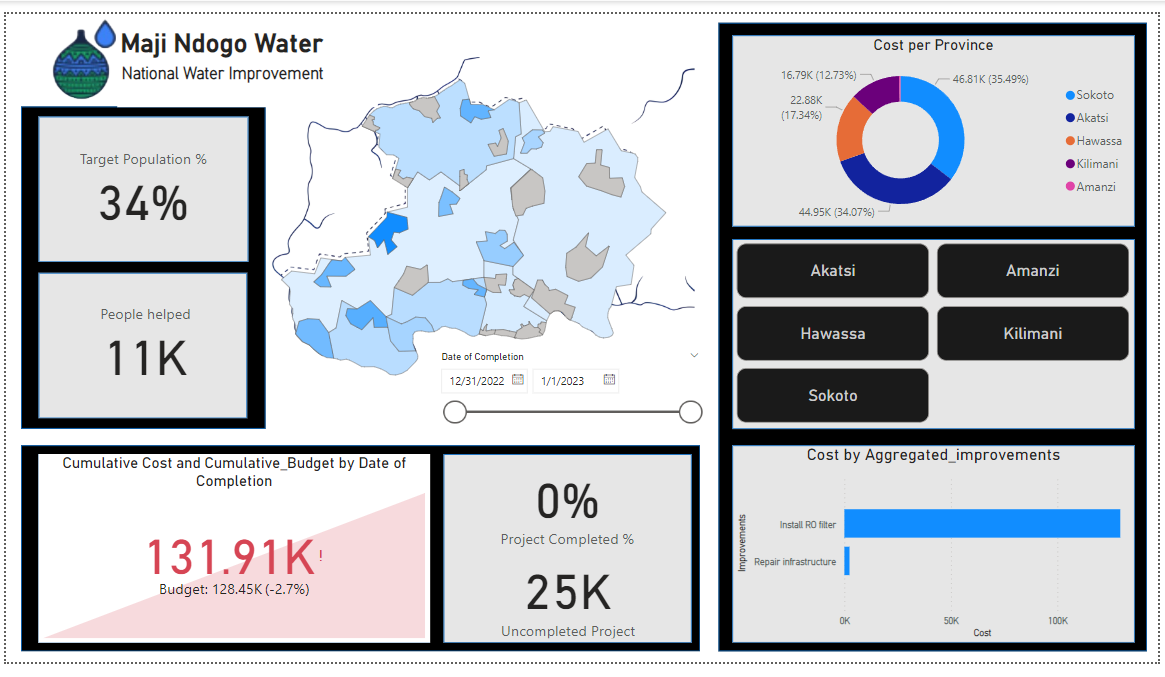

Layout of this report page (visuals, bound fields, positions):
{"tool":"powerbi","page":{"name":"Page 1","canvas":[1280,720],"ordinal":0},"visuals":[{"type":"image","box":[288.2,42.5,483,385.6],"z":0},{"type":"shape","box":[791.8,9.6,476.2,698.5],"z":1000},{"type":"shape","box":[806.9,23.3,447.3,212.7],"z":2000},{"type":"shape","box":[806.9,478.9,447.3,219.6],"z":3000},{"type":"shape","box":[806.9,249.7,447.3,211.3],"z":4000},{"type":"shape","box":[16.5,478.9,754.7,229.2],"z":5000},{"type":"shape","box":[485.8,488.5,275.8,209.9],"z":6000},{"type":"shape","box":[35.7,488.5,435,209.9],"z":7000},{"type":"shape","box":[16.5,102.9,271.7,358.1],"z":8000},{"type":"shape","box":[35.7,113.9,233.3,161.9],"z":9000},{"type":"shape","box":[35.7,288.2,231.9,161.9],"z":10000},{"type":"image","box":[13.7,0,134.5,104.3],"z":11000},{"type":"textbox","box":[122.1,9.6,290.9,53.5],"z":12000},{"type":"textbox","box":[123.5,49.4,289.5,53.5],"z":13000},{"type":"shapeMap","fields":{"Category":["project_progress.town"],"Value":["infrastructure_cost.Pct_Project_Complete"]},"box":[267.6,49.4,503.6,374.6],"z":14000},{"type":"kpi","title":"Cumulative Cost and Cumulative_Budget by Date of Completion","fields":{"Indicator":["infrastructure_cost.cumulative_cost"],"Goal":["infrastructure_cost.cumulative_budget"],"TrendLine":["project_progress.date_of_completion"]},"box":[35.7,488.5,435,209.9],"z":15000},{"type":"card","fields":{"Values":["infrastructure_cost.Pct_Project_Complete"]},"box":[485.8,488.5,275.8,111.1],"z":16000},{"type":"cardVisual","fields":{"Data":["project_progress.Pct_population_now_basic_access"]},"box":[35.7,113.9,233.3,161.9],"z":17000},{"type":"cardVisual","fields":{"Data":["project_progress.population_improved"]},"box":[31.6,282.7,247,167.4],"z":18000},{"type":"advancedSlicerVisual","fields":{"Values":["location.province_name"]},"box":[806.9,249.7,447.3,211.3],"z":19000},{"type":"clusteredBarChart","fields":{"Category":["project_progress.Aggregated_improvements"],"Y":["Sum(project_progress.cost)"]},"box":[806.9,478.9,447.3,219.6],"z":20000},{"type":"donutChart","title":"Cost per Province","fields":{"Y":["Sum(project_progress.cost)"],"Category":["location.province_name"]},"box":[806.9,23.3,447.3,214.1],"z":21000},{"type":"card","fields":{"Values":["infrastructure_cost.number_uncompleted_projects"]},"box":[485.8,594.2,277.2,104.3],"z":22000},{"type":"slicer","fields":{"Values":["project_progress.date_of_completion"]},"box":[470.7,369.1,311.5,107],"z":22001}]}

Visuals, with their boxes in screenshot pixels (x1, y1, x2, y2):
image: <region>265, 50, 698, 396</region>
shape: <region>717, 21, 1144, 648</region>
shape: <region>730, 33, 1132, 224</region>
shape: <region>730, 442, 1132, 639</region>
shape: <region>730, 236, 1132, 426</region>
shape: <region>21, 442, 698, 648</region>
shape: <region>442, 451, 690, 639</region>
shape: <region>38, 451, 429, 639</region>
shape: <region>21, 104, 265, 426</region>
shape: <region>38, 114, 248, 260</region>
shape: <region>38, 271, 246, 416</region>
image: <region>18, 12, 139, 106</region>
textbox: <region>116, 21, 377, 69</region>
textbox: <region>117, 56, 377, 104</region>
shapeMap - project_progress.town x infrastructure_cost.Pct_Project_Complete: <region>246, 56, 698, 393</region>
"Cumulative Cost and Cumulative_Budget by Date of Completion" kpi: <region>38, 451, 429, 639</region>
card - infrastructure_cost.Pct_Project_Complete: <region>442, 451, 690, 550</region>
cardVisual - project_progress.Pct_population_now_basic_access: <region>38, 114, 248, 260</region>
cardVisual - project_progress.population_improved: <region>34, 266, 256, 416</region>
advancedSlicerVisual - location.province_name: <region>730, 236, 1132, 426</region>
clusteredBarChart - project_progress.Aggregated_improvements x Sum(project_progress.cost): <region>730, 442, 1132, 639</region>
"Cost per Province" donutChart: <region>730, 33, 1132, 225</region>
card - infrastructure_cost.number_uncompleted_projects: <region>442, 545, 691, 639</region>
slicer - project_progress.date_of_completion: <region>429, 343, 708, 439</region>
